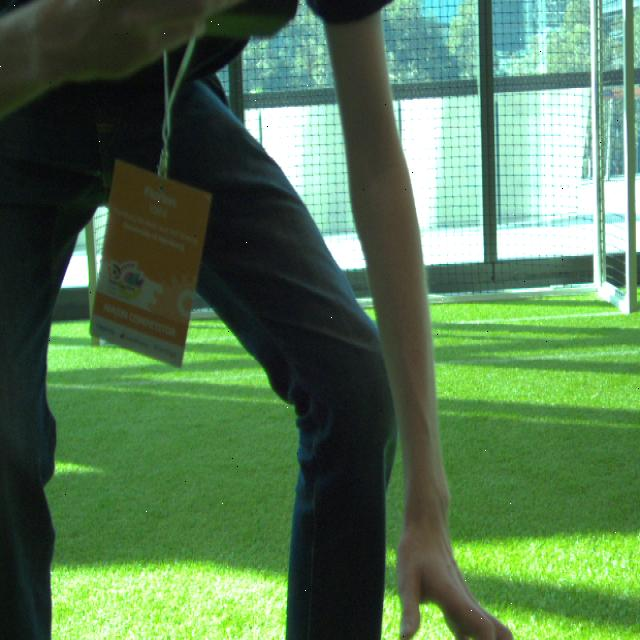goalpost: (623, 0, 637, 312), (85, 215, 103, 346)
